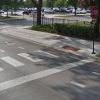Crosswalk: (2, 49, 100, 82)
